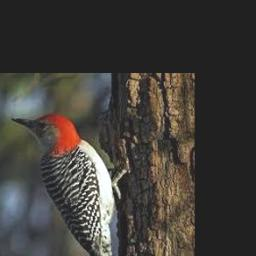Woodpecker: (11, 113, 125, 256)
